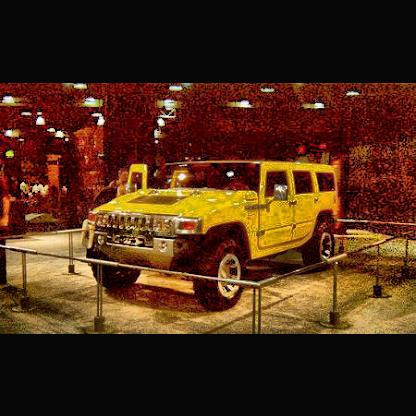AM General Hummer SUV 2000: (81, 157, 344, 315)
